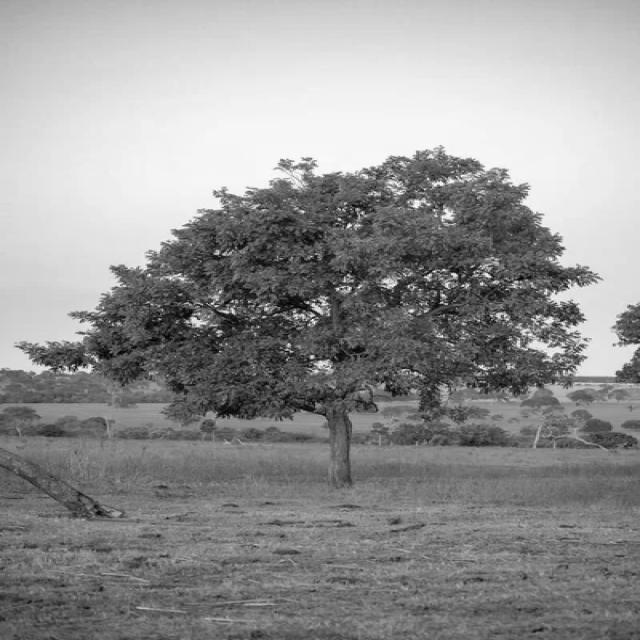Tree: (19, 149, 598, 489)
